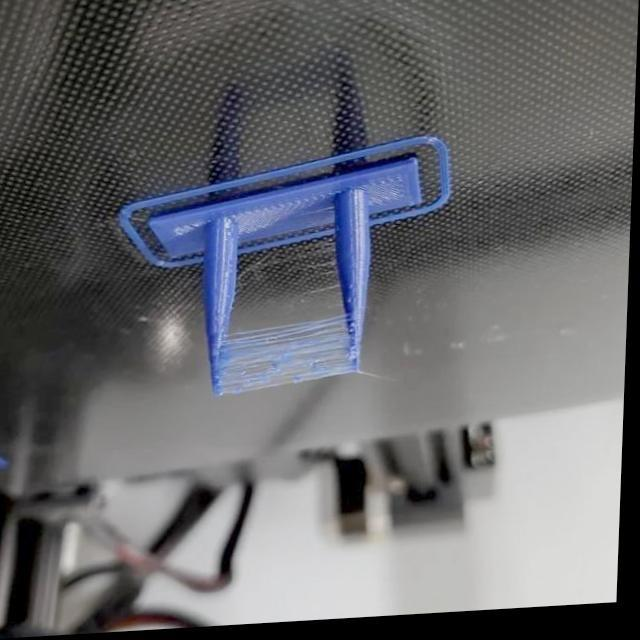stringing: (230, 328, 344, 393)
